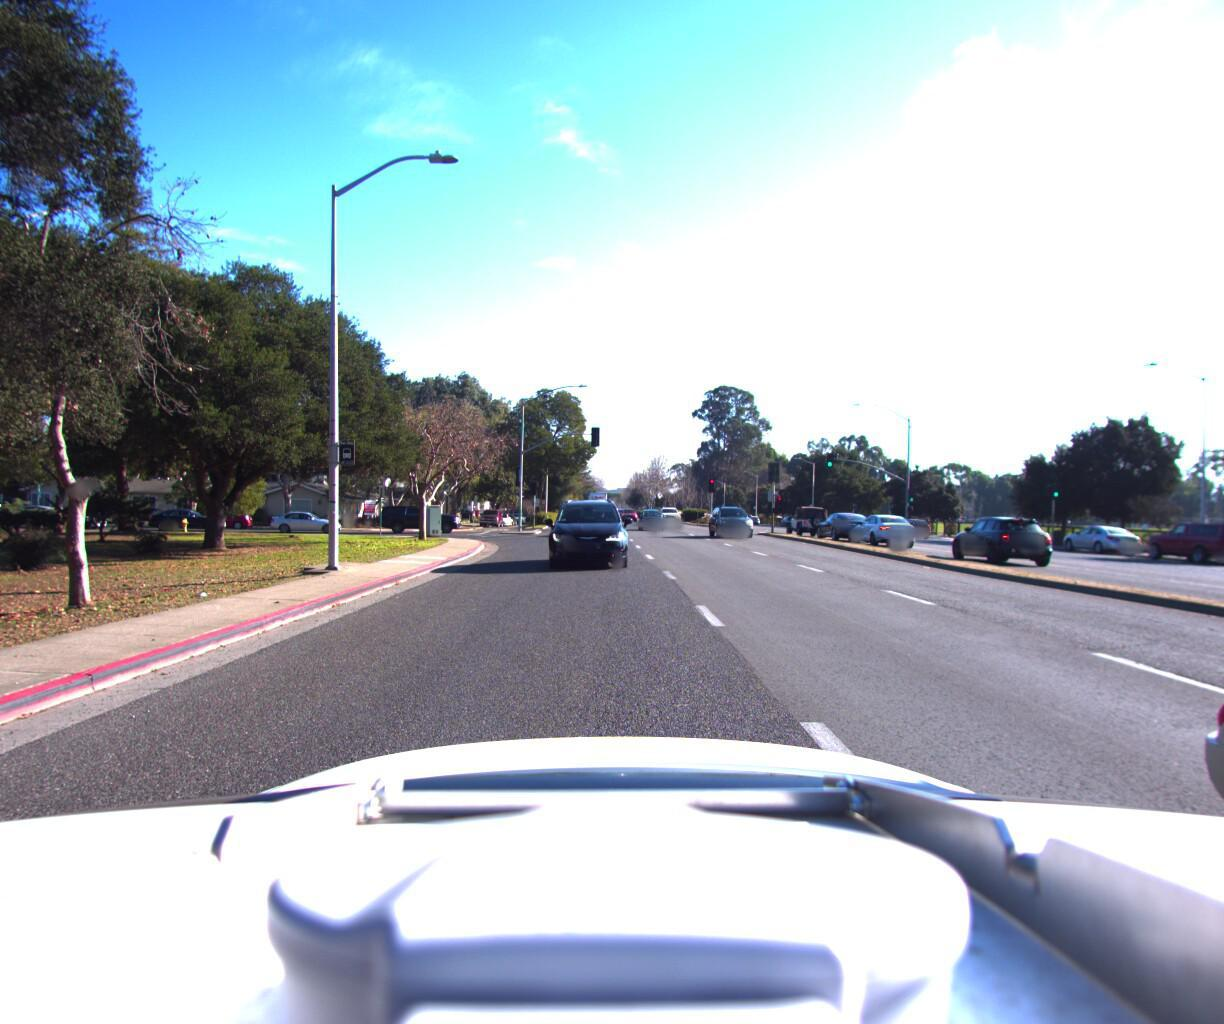car: (540, 496, 631, 582), (946, 517, 1065, 573), (1137, 523, 1224, 575), (1054, 529, 1145, 563), (376, 511, 467, 543), (846, 518, 920, 554), (147, 514, 233, 540), (812, 517, 880, 549), (268, 516, 346, 540), (703, 509, 752, 546), (187, 514, 259, 538), (783, 511, 834, 543), (888, 522, 936, 546), (634, 515, 664, 539), (656, 511, 682, 532), (478, 515, 503, 535)
